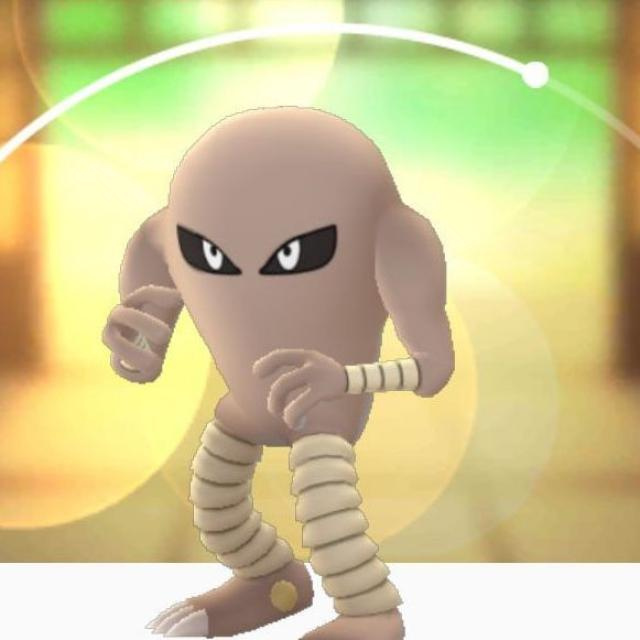Hitmonlee: (114, 162, 455, 517)
